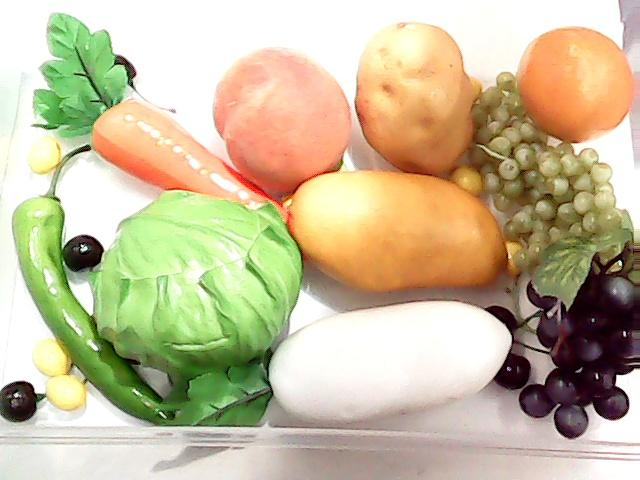cabbage: (90, 182, 302, 378)
carrot: (32, 10, 292, 246)
grape: (471, 67, 640, 268), (518, 237, 640, 440)
lemon: (508, 22, 640, 148)
mango: (291, 172, 509, 292)
peach: (186, 31, 370, 197), (209, 43, 353, 197)
pepper: (8, 172, 188, 422)
potato: (356, 19, 476, 177)
radish: (160, 300, 512, 456)
